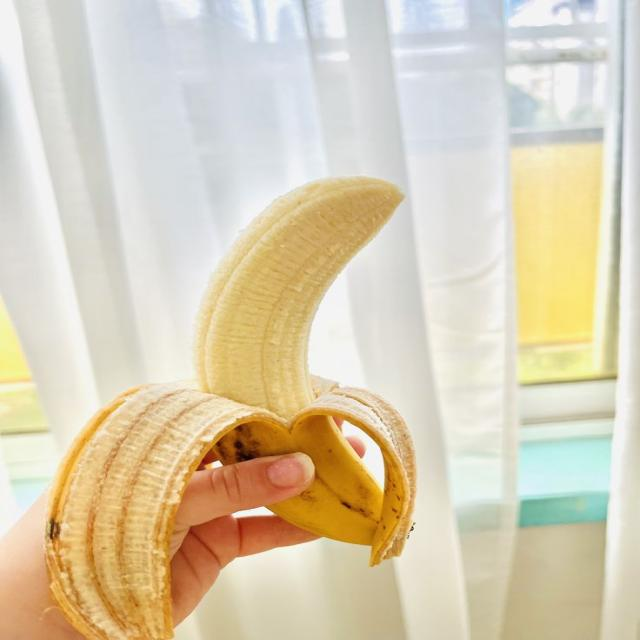banana: (46, 177, 415, 638)
